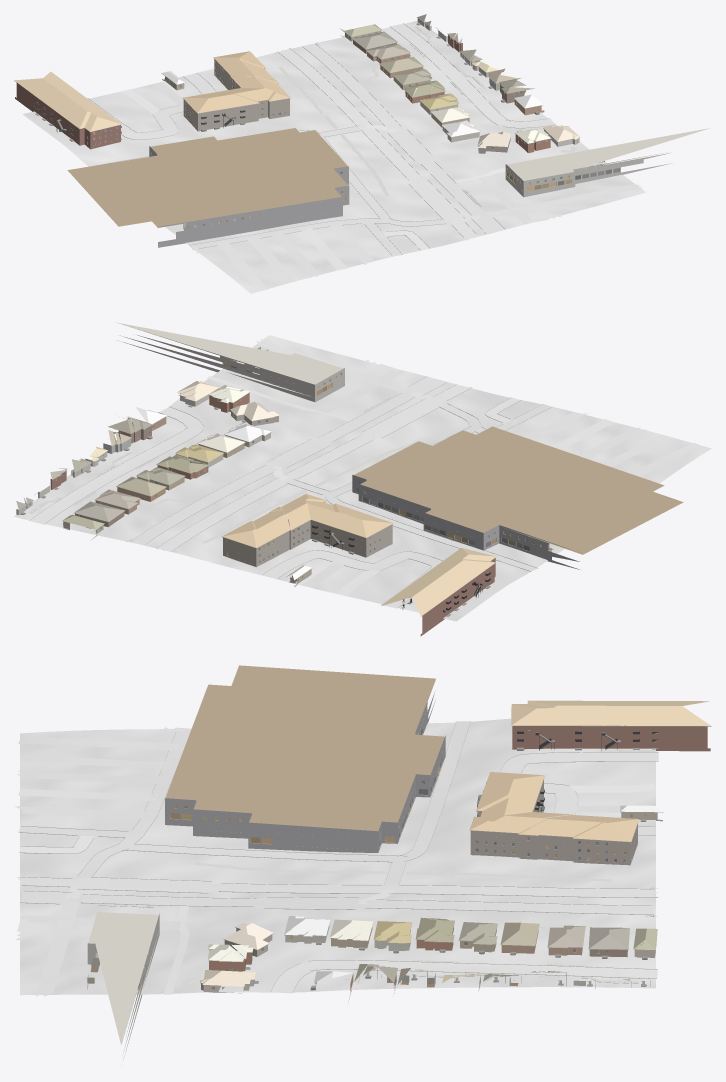
3 views of the same model, one above another, from view 1: azimuth 30°, elevation 25°; view 2: azimuth 150°, elevation 25°; view 3: azimuth 270°, elevation 25° (orthographic). The views are drawn at different scales.
Parts seen in each view (by area): view 1: ground, roof_flat, roof, concrete, asphalt, wall, wall_com, curb, detail, walk, wall_stucco, glass; view 2: ground, roof_flat, roof, concrete, asphalt, wall, wall_com, curb, detail, walk, wall_stucco, glass; view 3: ground, roof_flat, concrete, roof, asphalt, wall, wall_com, curb, detail, walk, wall_stucco, mark_w.
Part boxes in pixels (left/top/right/bottom): ground: left=23, top=20, right=646, bottom=293; roof_flat: left=67, top=128, right=710, bottom=227; roof: left=14, top=14, right=579, bottom=148; concrete: left=87, top=23, right=642, bottom=291; asphalt: left=280, top=44, right=504, bottom=240; wall: left=15, top=31, right=550, bottom=153; wall_com: left=149, top=146, right=671, bottom=247; curb: left=88, top=23, right=555, bottom=255; detail: left=14, top=17, right=619, bottom=228; walk: left=275, top=26, right=576, bottom=206; wall_stucco: left=420, top=30, right=579, bottom=146; glass: left=87, top=25, right=619, bottom=219; ground: left=14, top=335, right=711, bottom=621; roof_flat: left=117, top=322, right=683, bottom=554; roof: left=16, top=381, right=496, bottom=616; concrete: left=30, top=339, right=703, bottom=608; asphalt: left=131, top=376, right=472, bottom=550; wall: left=50, top=393, right=495, bottom=636; wall_com: left=118, top=327, right=579, bottom=569; curb: left=29, top=376, right=552, bottom=608; detail: left=19, top=363, right=541, bottom=616; walk: left=28, top=385, right=418, bottom=607; wall_stucco: left=38, top=393, right=270, bottom=498; glass: left=29, top=365, right=529, bottom=581; ground: left=20, top=718, right=655, bottom=995; roof_flat: left=88, top=665, right=444, bottom=1044; concrete: left=15, top=721, right=658, bottom=996; roof: left=200, top=700, right=710, bottom=986; asphalt: left=17, top=877, right=657, bottom=914; wall: left=209, top=725, right=710, bottom=1002; wall_com: left=87, top=691, right=445, bottom=1058; curb: left=19, top=721, right=658, bottom=992; detail: left=87, top=711, right=711, bottom=990; walk: left=98, top=750, right=657, bottom=987; wall_stucco: left=201, top=925, right=595, bottom=993; mark_w: left=18, top=877, right=652, bottom=913.
Size of the model in its own units: 348 by 20.66 by 274.
